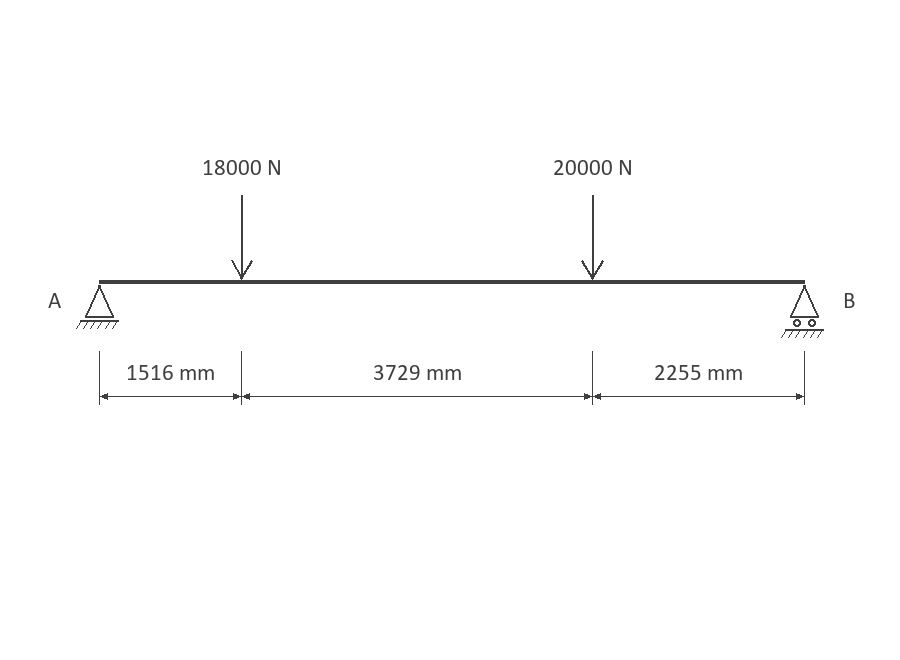pin_support: (76, 285, 119, 329)
point_load: (581, 195, 604, 280), (231, 195, 253, 280)
roller_support: (781, 285, 824, 338)
